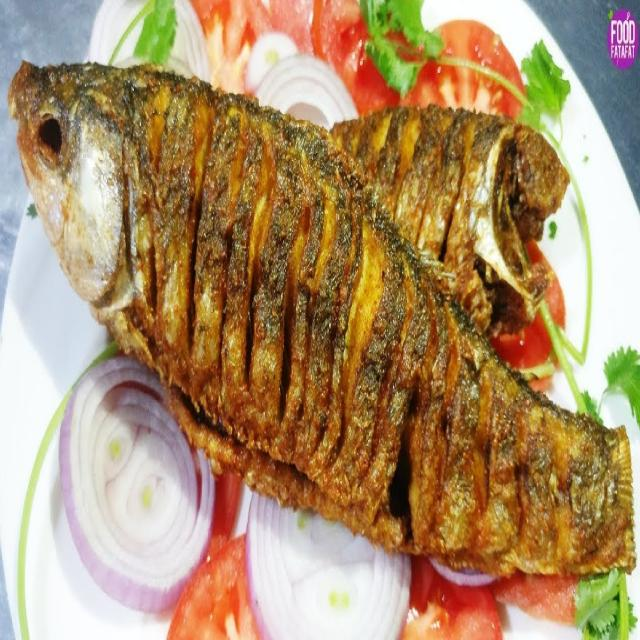FISH FRY: (10, 59, 633, 576)
